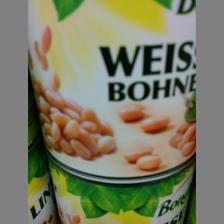Bohnen: (28, 0, 196, 184)
